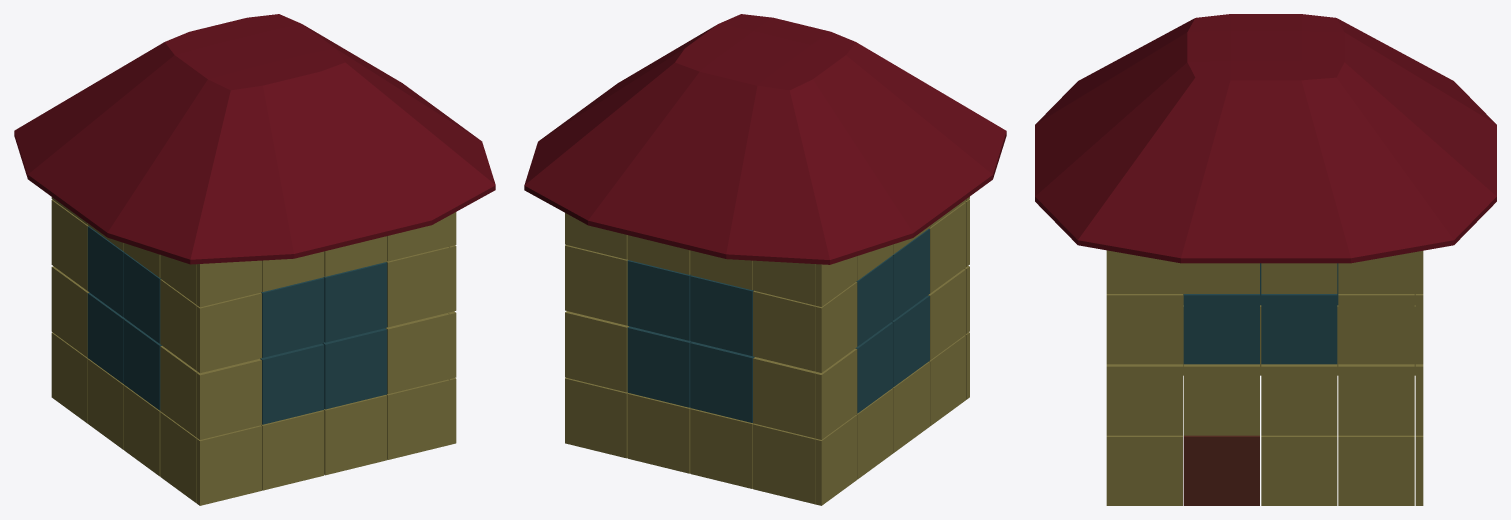
Rendered from house01.fbx.
3 renders of one model, left to right at view 1: azimuth 30°, elevation 25°; view 2: azimuth 150°, elevation 25°; view 3: azimuth 270°, elevation 25°, orthographic. The views are drawn at different scales.
Parts seen in each view (by area): view 1: Cube.020; view 2: Cube.020; view 3: Cube.020.
Part boxes in pixels (x1,y1,x2,y2): Cube.020: [14, 14, 495, 505]; Cube.020: [524, 14, 1006, 505]; Cube.020: [1035, 14, 1496, 505].
Size of the model in its own units: 800 by 753 by 800.
